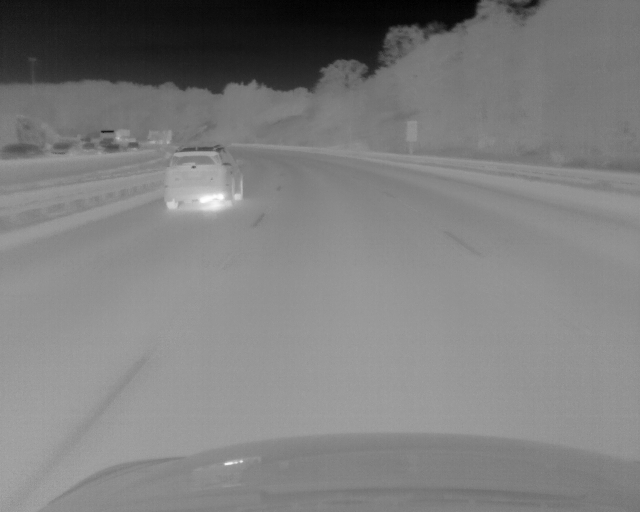car: (166, 148, 244, 209)
